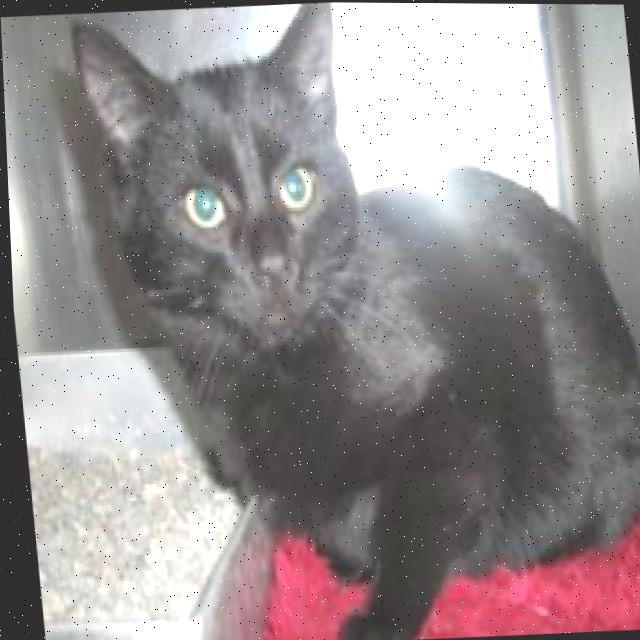Bombay: (66, 0, 640, 640)
